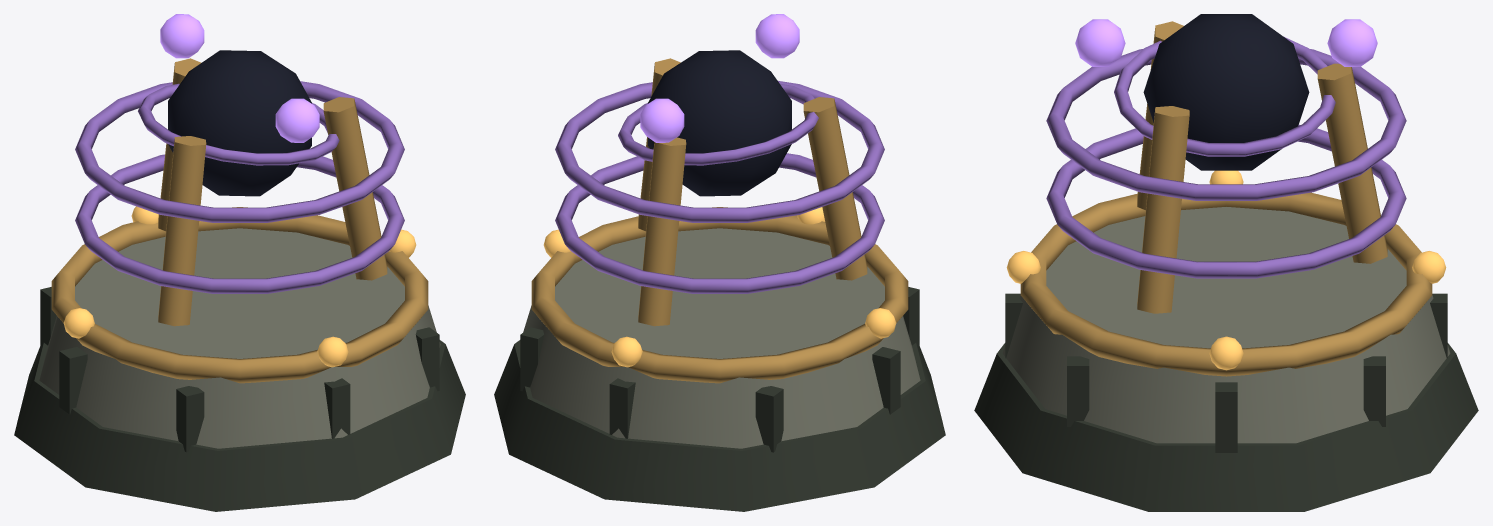
File: tower_gravity_gravityTide.glb
The picture shows the model from 3 angles, left to right: view 1: azimuth 30°, elevation 25°; view 2: azimuth 150°, elevation 25°; view 3: azimuth 270°, elevation 25°; orthographic projection. The views are drawn at different scales.
Parts seen in each view (by area): view 1: stone_1, foot_0, rim_2, black_hole_15, pulse_21, pulse_20, claw_18, claw_17, accretion_19, satellite_22, satellite_23, mortar_6 (+7 smaller); view 2: stone_1, foot_0, rim_2, black_hole_15, pulse_21, pulse_20, claw_16, claw_18, accretion_19, satellite_23, satellite_22, mortar_8 (+7 smaller); view 3: stone_1, foot_0, black_hole_15, rim_2, pulse_21, pulse_20, claw_17, claw_16, accretion_19, satellite_22, satellite_23, mortar_3 (+8 smaller).
Part boxes in pixels (<box>): stone_1: <box>39,228,440,448</box>; foot_0: <box>14,340,465,511</box>; rim_2: <box>51,207,428,383</box>; black_hole_15: <box>168,50,311,196</box>; pulse_21: <box>75,81,404,222</box>; pulse_20: <box>75,154,404,293</box>; claw_18: <box>158,136,206,326</box>; claw_17: <box>323,97,387,280</box>; accretion_19: <box>138,83,339,165</box>; satellite_22: <box>275,98,319,142</box>; satellite_23: <box>160,14,204,58</box>; mortar_6: <box>176,386,204,452</box>; stone_1: <box>519,228,920,448</box>; foot_0: <box>494,340,945,511</box>; rim_2: <box>531,207,908,383</box>; black_hole_15: <box>648,50,791,196</box>; pulse_21: <box>555,81,884,222</box>; pulse_20: <box>555,153,884,293</box>; claw_16: <box>638,137,686,326</box>; claw_18: <box>803,97,867,280</box>; accretion_19: <box>618,83,818,165</box>; satellite_23: <box>640,98,684,142</box>; satellite_22: <box>755,14,799,58</box>; mortar_8: <box>755,386,783,452</box>; stone_1: <box>1002,207,1450,443</box>; foot_0: <box>974,343,1478,511</box>; black_hole_15: <box>1143,14,1309,170</box>; rim_2: <box>1020,192,1432,376</box>; pulse_21: <box>1046,49,1406,200</box>; pulse_20: <box>1046,124,1406,278</box>; claw_17: <box>1137,106,1189,313</box>; claw_16: <box>1317,63,1387,263</box>; accretion_19: <box>1114,36,1335,156</box>; satellite_22: <box>1075,19,1125,66</box>; satellite_23: <box>1327,19,1377,66</box>; mortar_3: <box>1215,382,1237,452</box>.
Size of the model in its own units: 0.5326 by 0.482 by 0.56.
